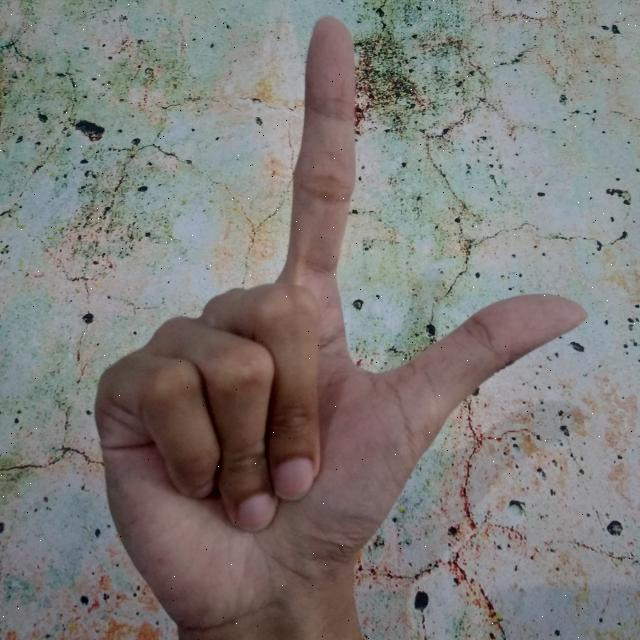L: (90, 10, 600, 640)
